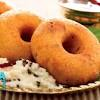chutney: (1, 58, 41, 91)
